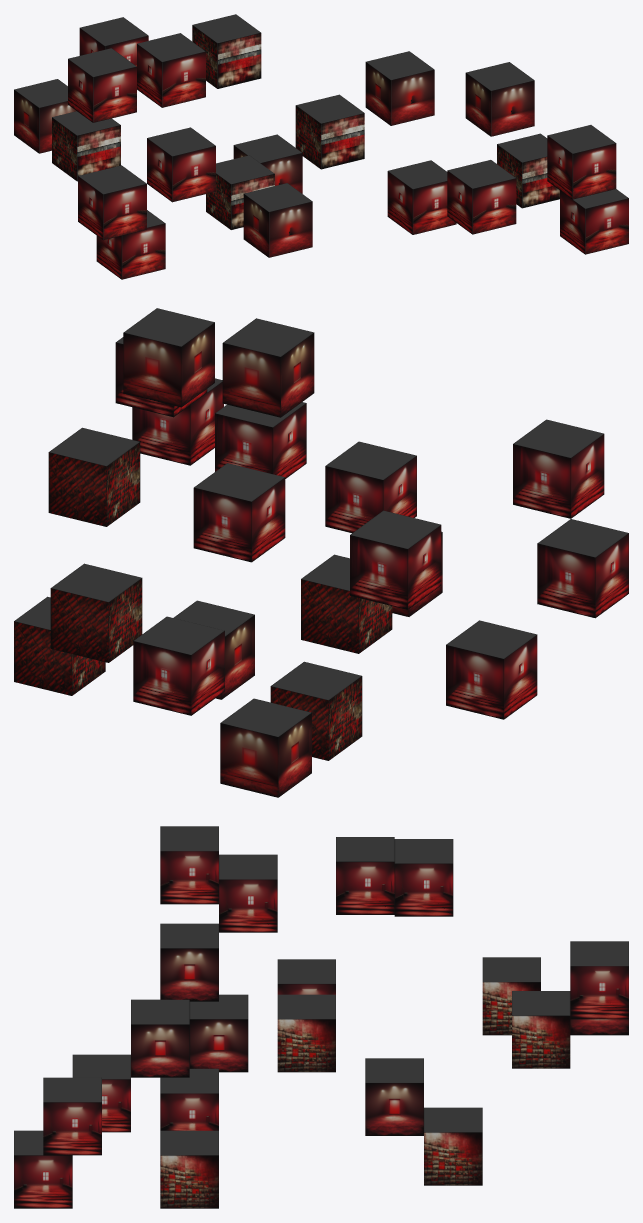
The model's file is full_room_1.fbx.
3 renders of one model, top to bottom at view 1: azimuth 30°, elevation 25°; view 2: azimuth 150°, elevation 25°; view 3: azimuth 270°, elevation 25°, orthographic. The views are drawn at different scales.
Visible parts, largest first — view 1: MyCube.010, MyCube.004, MyCube.019, MyCube.016, MyCube.017, MyCube.005, MyCube.001, MyCube.012, MyCube.003, MyCube.011, MyCube, MyCube.006 (+8 smaller); view 2: MyCube.016, MyCube, MyCube.008, MyCube.006, MyCube.013, MyCube.002, MyCube.003, MyCube.015, MyCube.011, MyCube.012, MyCube.017, MyCube.001 (+7 smaller); view 3: MyCube.012, MyCube.002, MyCube.003, MyCube.005, MyCube.008, MyCube.010, MyCube.011, MyCube.017, MyCube.009, MyCube.016, MyCube.001, MyCube.006 (+8 smaller).
Part boxes in pixels (<box>): MyCube.010: <box>547,125,616,199</box>; MyCube.004: <box>447,160,516,234</box>; MyCube.019: <box>243,183,312,257</box>; MyCube.016: <box>365,51,434,125</box>; MyCube.017: <box>465,62,534,136</box>; MyCube.005: <box>295,94,364,169</box>; MyCube.001: <box>137,33,205,107</box>; MyCube.012: <box>68,48,136,122</box>; MyCube.003: <box>78,165,146,240</box>; MyCube.011: <box>147,127,215,202</box>; MyCube: <box>387,160,456,234</box>; MyCube.006: <box>192,14,261,88</box>; MyCube.016: <box>222,318,314,417</box>; MyCube: <box>193,463,285,562</box>; MyCube.008: <box>48,427,140,526</box>; MyCube.006: <box>50,563,142,662</box>; MyCube.013: <box>446,620,537,719</box>; MyCube.002: <box>133,616,224,715</box>; MyCube.003: <box>537,519,628,618</box>; MyCube.015: <box>220,698,311,797</box>; MyCube.011: <box>513,419,604,518</box>; MyCube.012: <box>350,510,441,609</box>; MyCube.017: <box>123,308,214,407</box>; MyCube.001: <box>325,441,416,532</box>; MyCube.012: <box>394,839,453,916</box>; MyCube.002: <box>570,941,628,1019</box>; MyCube.003: <box>219,854,277,932</box>; MyCube.005: <box>424,1107,482,1185</box>; MyCube.008: <box>160,1130,218,1208</box>; MyCube.010: <box>43,1077,101,1155</box>; MyCube.011: <box>160,826,218,904</box>; MyCube.017: <box>131,999,189,1077</box>; MyCube.009: <box>277,994,335,1072</box>; MyCube.016: <box>160,923,218,1001</box>; MyCube.001: <box>336,837,394,914</box>; MyCube.006: <box>512,991,570,1068</box>.
Bounding box in the file's own units: 2000 × 800 × 2100.
